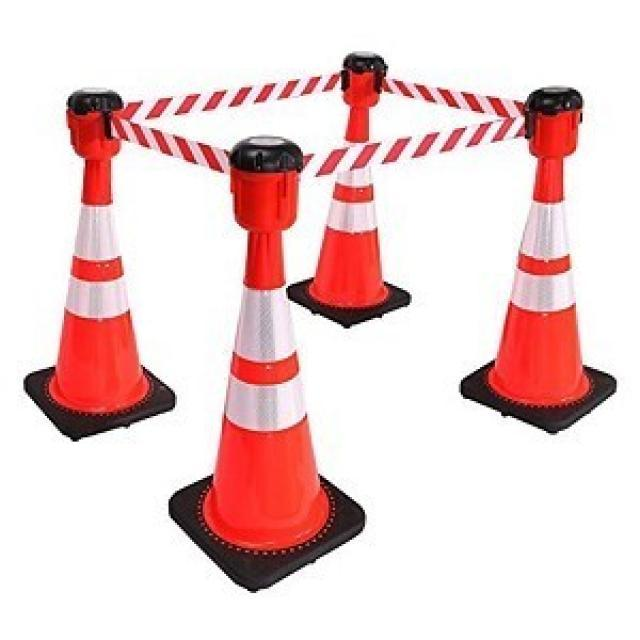traffic cone: (488, 82, 593, 419), (48, 83, 148, 423), (287, 166, 412, 329), (340, 51, 388, 143)
